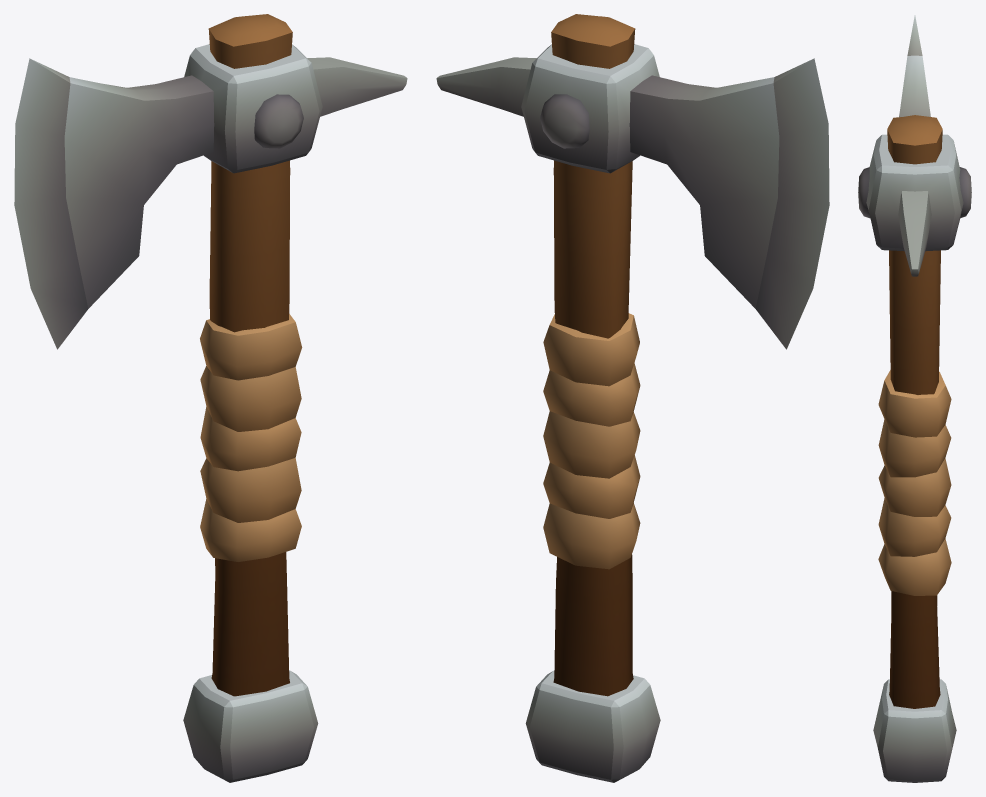
The model's file is Axe_05.obj.
3 views of the same model, side by side, from view 1: azimuth 30°, elevation 25°; view 2: azimuth 150°, elevation 25°; view 3: azimuth 270°, elevation 25° (orthographic). The views are drawn at different scales.
Visible parts, largest first — view 1: Axe_05; view 2: Axe_05; view 3: Axe_05.
Part boxes in pixels (left/top/right/bottom): Axe_05: left=14, top=14, right=407, bottom=782; Axe_05: left=436, top=14, right=829, bottom=782; Axe_05: left=858, top=15, right=971, bottom=782.
Bounding box in the file's own units: 0.5968 × 1.1 × 0.1729.
